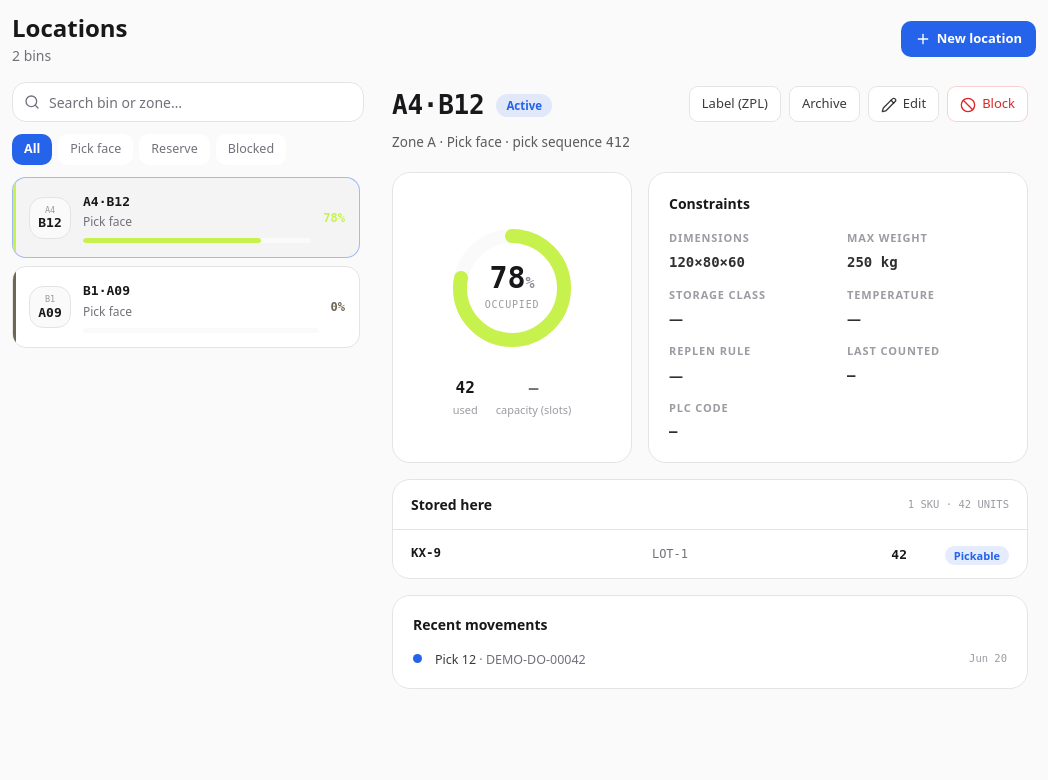
Test: LocationsPage › search filters the location list by code
Type "A09" into the field with placeholder "Search bin or zone…" at (188, 102), box [12,82,364,122]
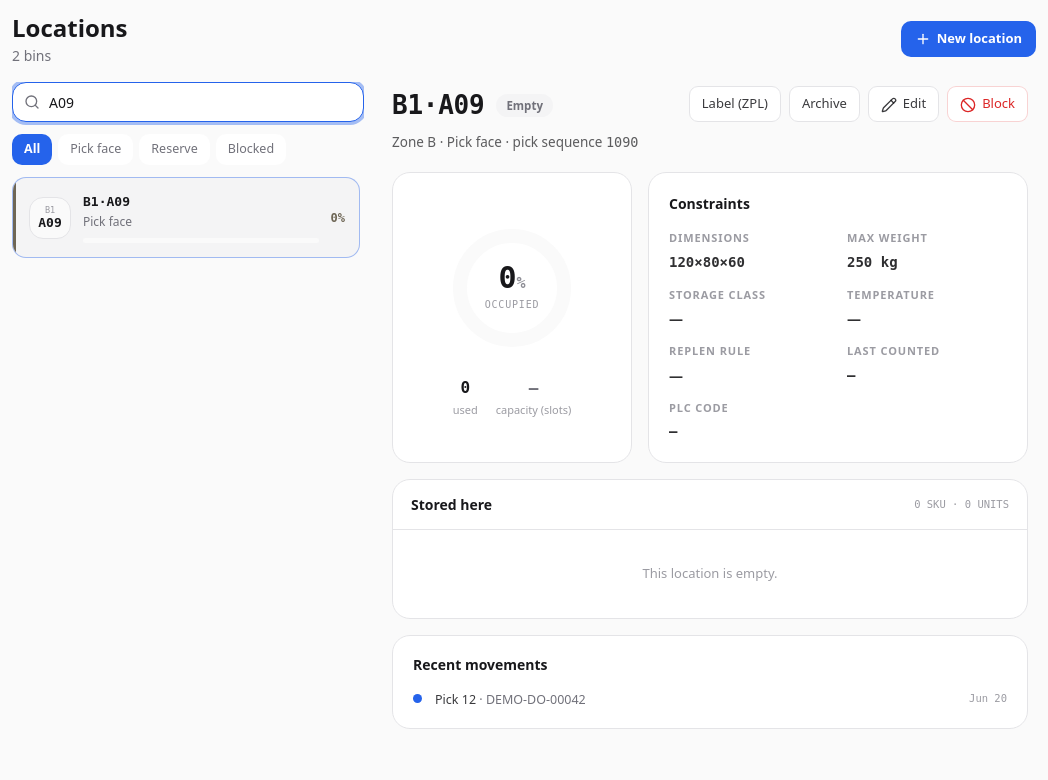
expect the button "A4·B12" is gone: met
